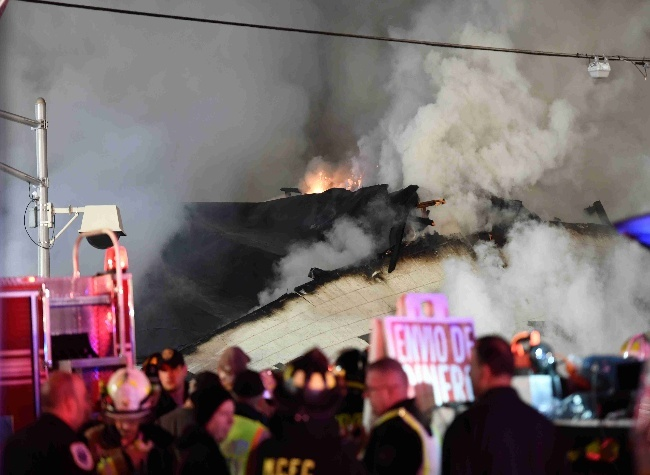Fire: (301, 172, 354, 194)
Smoke: (393, 70, 581, 198), (107, 99, 292, 195), (441, 252, 636, 338)
